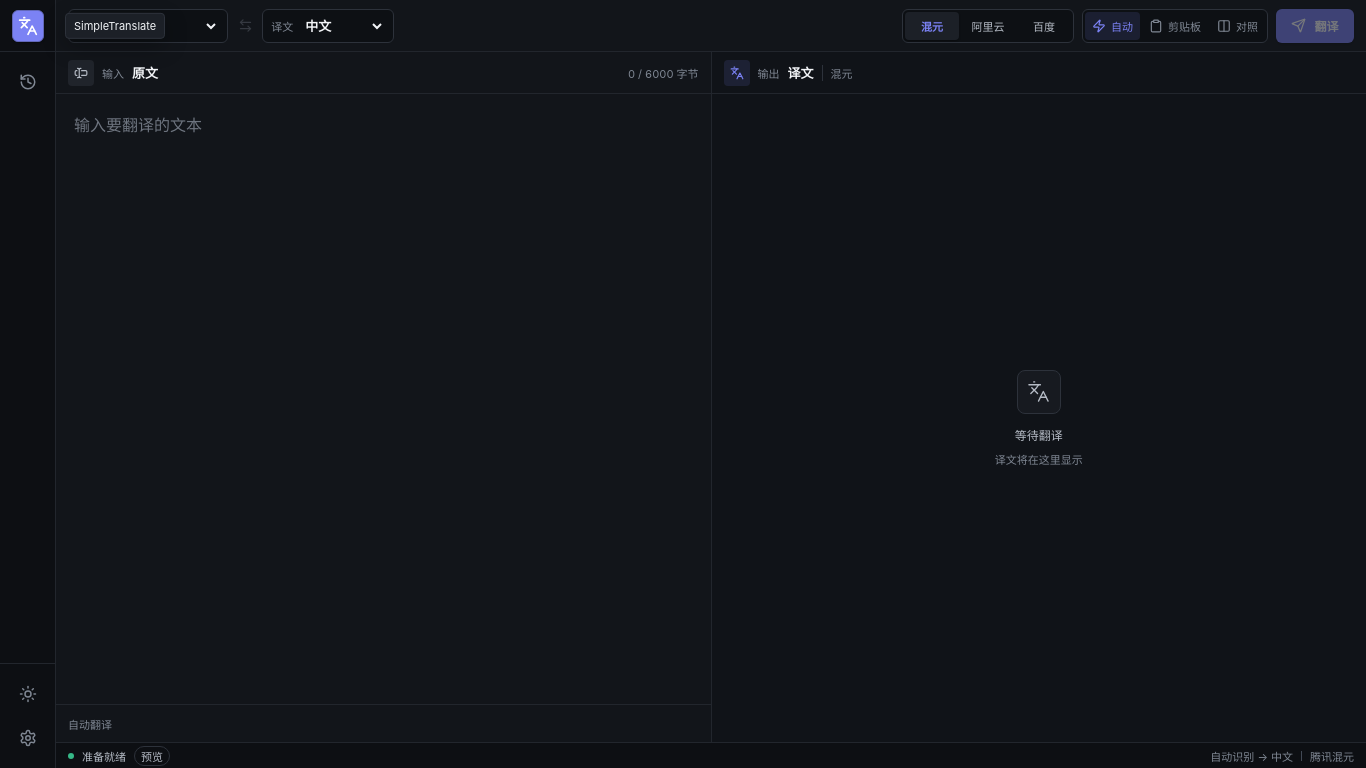
Test: standalone app › restores history without automatically translating it again
Click the button named "打开历史记录". click: (28, 82)
box: [10,64,46,100]
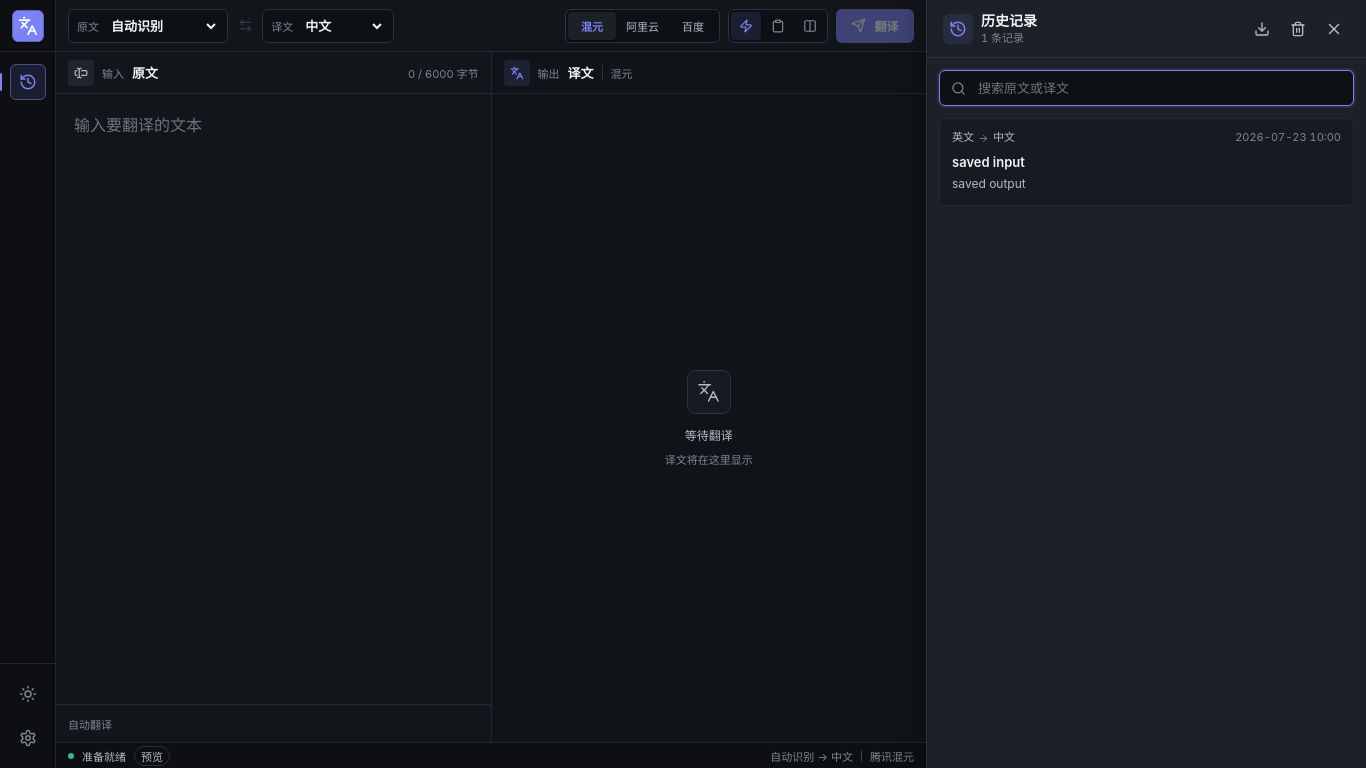
Click the button "saved input". click: (1288, 137)
box: [939,118,1354,206]
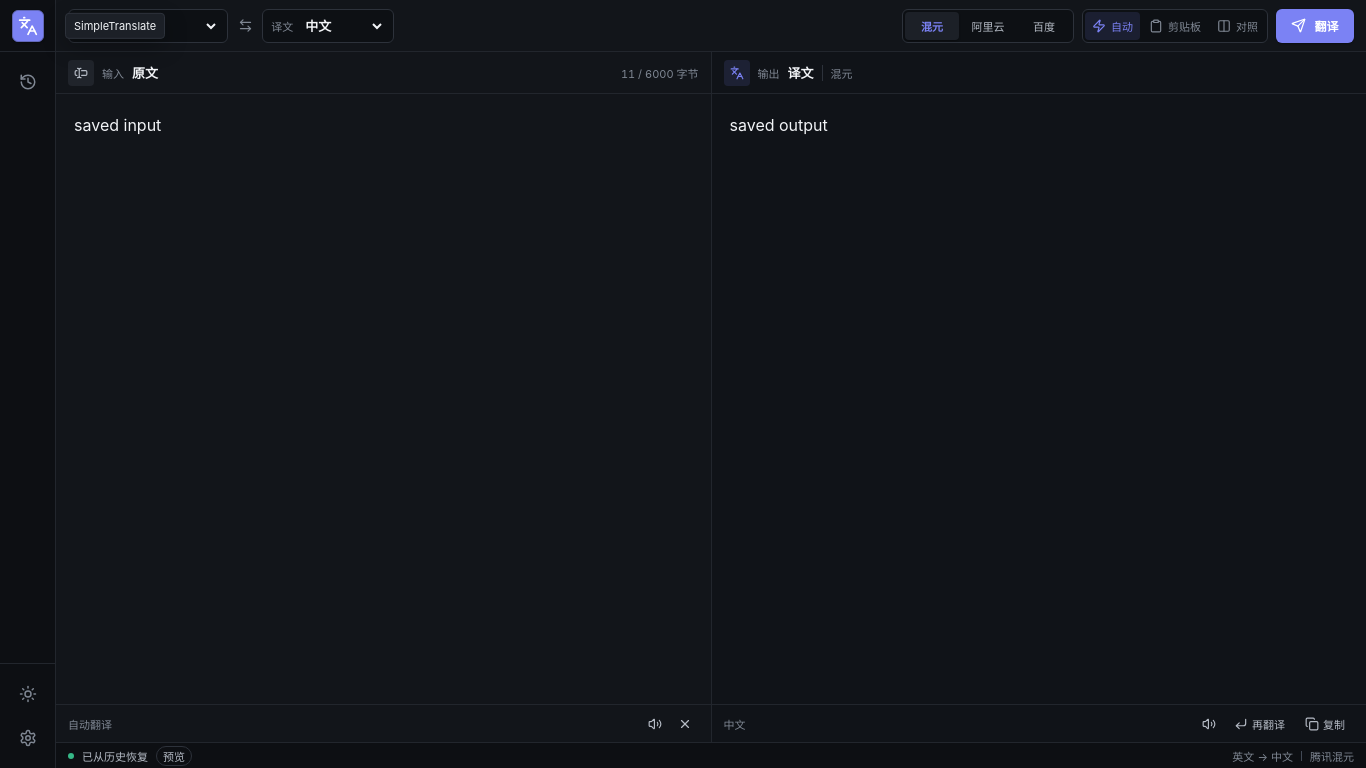
expect the text box named "译文" holds "saved output": met, box [712,94,1365,704]
